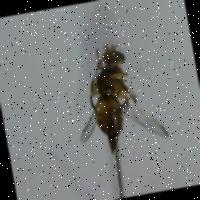Oriental-fruit-fly: (49, 24, 181, 165)
